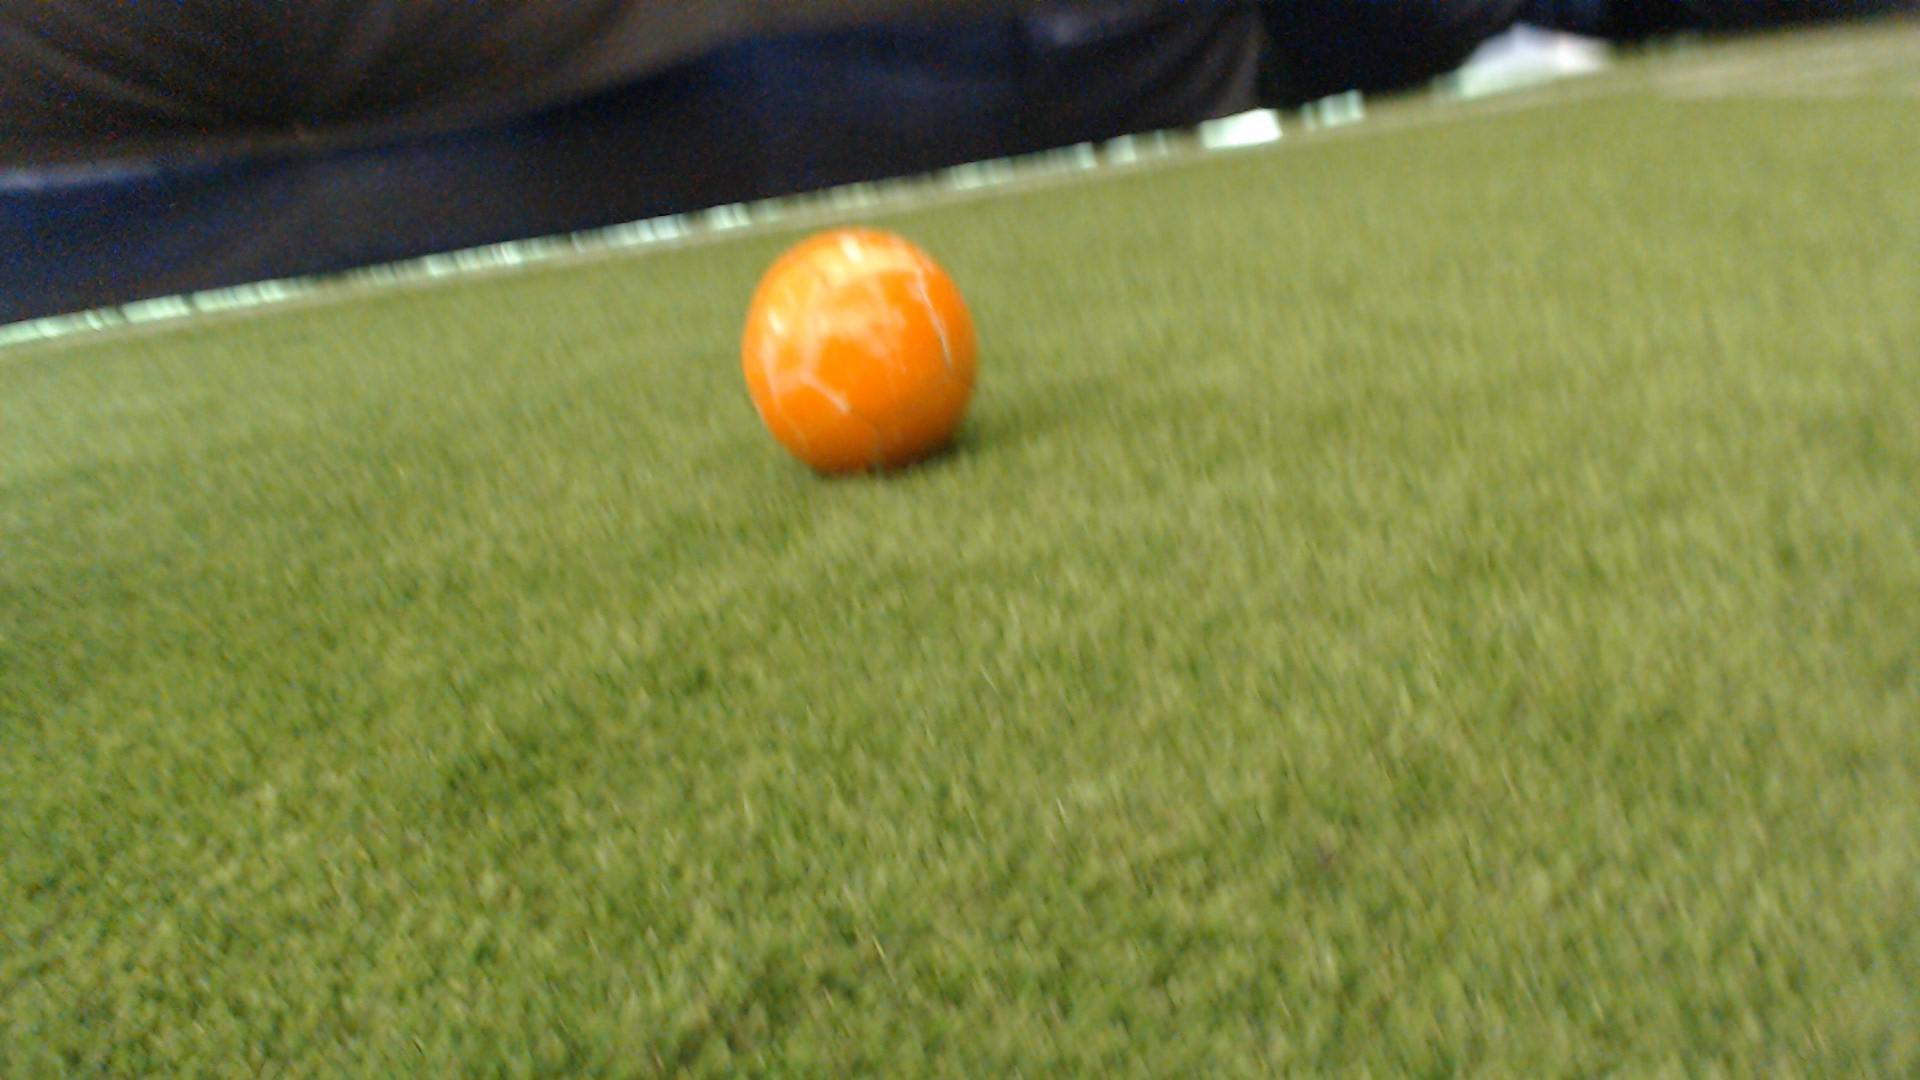bola: (698, 203, 1025, 501)
